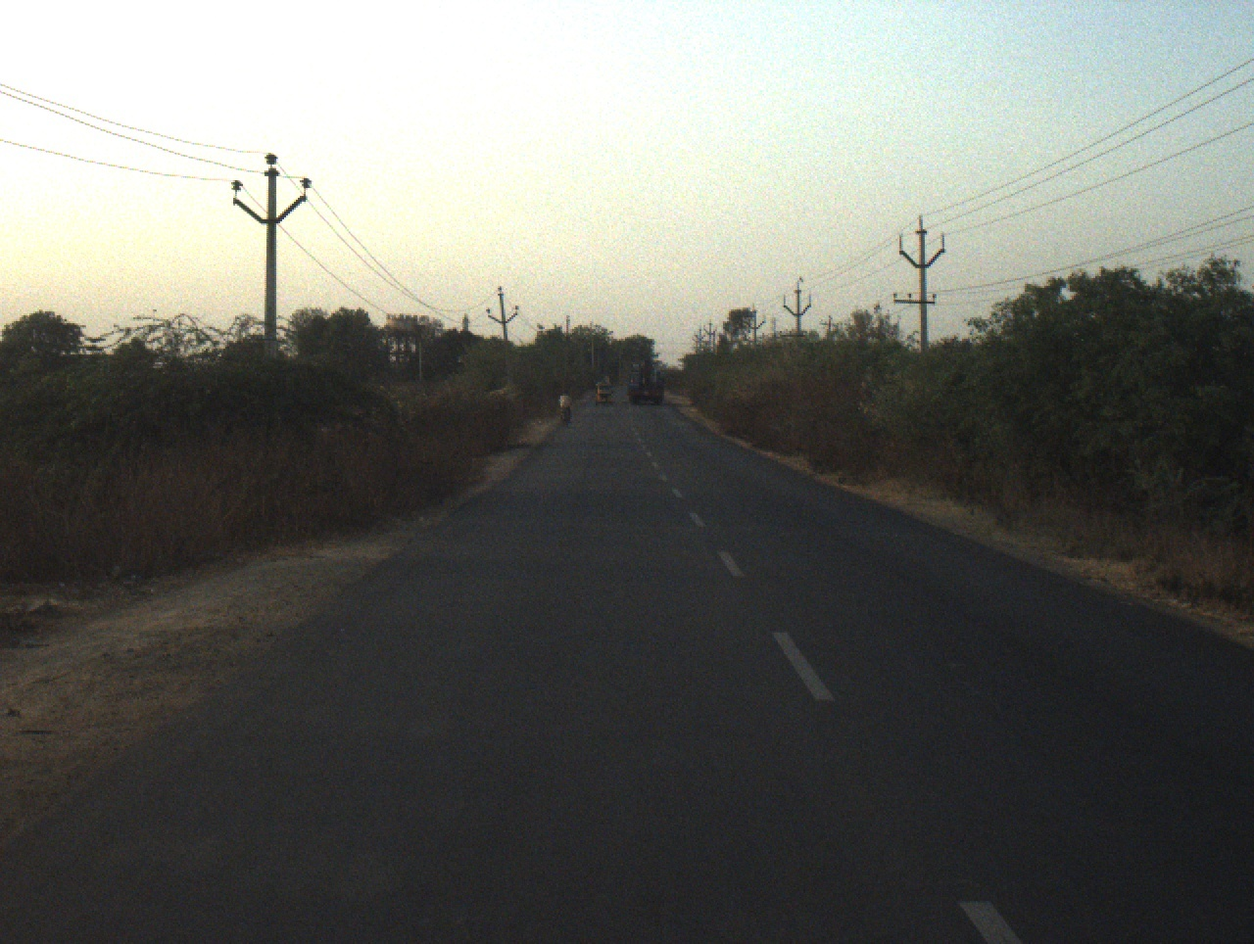autorickshaw: (589, 379, 616, 411)
bicycle: (557, 407, 575, 432)
rider: (555, 389, 574, 421)
vehicle fallback: (624, 353, 666, 408)
